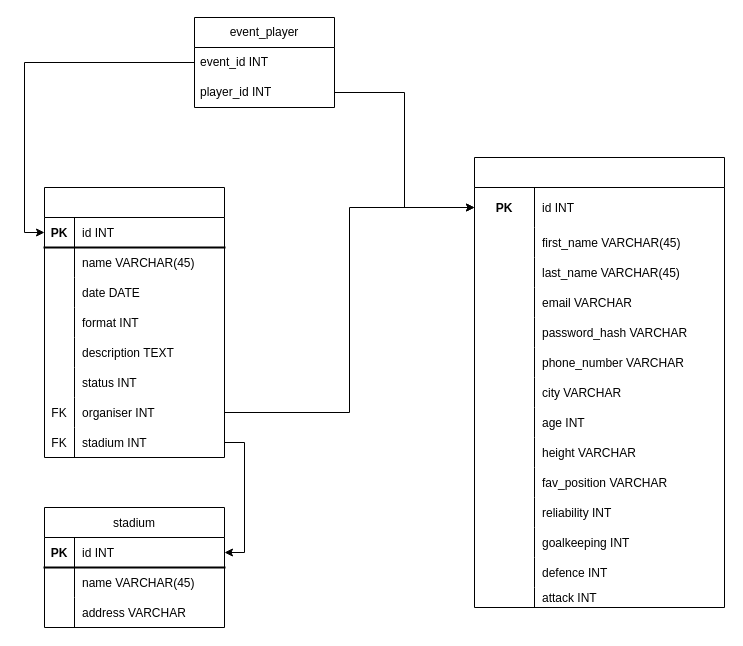
Image size: 743x646. Some labels were removed from this diagram. The box of each missing label's shape, as (x1, y1, x2, y2) in pixels:
event: (44, 186, 224, 458)
player: (474, 156, 724, 608)
